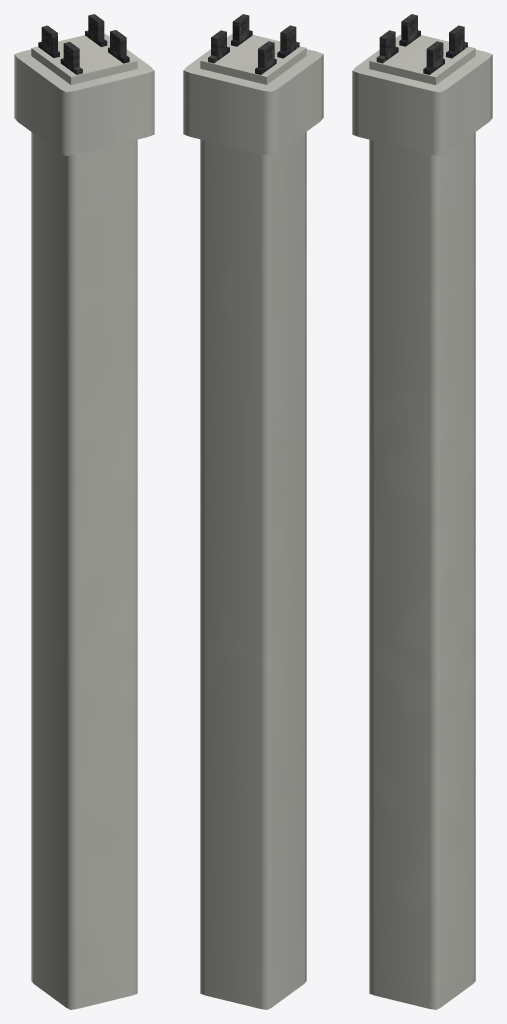
File: danguizhu2.obj
3 renders of one model, left to right at view 1: azimuth 30°, elevation 25°; view 2: azimuth 150°, elevation 25°; view 3: azimuth 330°, elevation 25°, orthographic.
Parts seen in each view (by area): view 1: Mesh6 Group5 Group1 Model, Mesh7 Group1 Model, Mesh5 Group2 Group1 Model, Mesh4 Group4 Group2 Group1 Model, Mesh3 Group4 Group2 Group1 Model, Mesh1 Group3 Group2 Group1 Model, Mesh2 Group3 Group2 Group1 Model; view 2: Mesh6 Group5 Group1 Model, Mesh7 Group1 Model, Mesh5 Group2 Group1 Model, Mesh4 Group4 Group2 Group1 Model, Mesh1 Group3 Group2 Group1 Model, Mesh2 Group3 Group2 Group1 Model, Mesh3 Group4 Group2 Group1 Model; view 3: Mesh6 Group5 Group1 Model, Mesh7 Group1 Model, Mesh5 Group2 Group1 Model, Mesh4 Group4 Group2 Group1 Model, Mesh1 Group3 Group2 Group1 Model, Mesh2 Group3 Group2 Group1 Model, Mesh3 Group4 Group2 Group1 Model.
Part boxes in pixels (x1,y1,x2,y2): Mesh6 Group5 Group1 Model: [31, 132, 137, 1009]; Mesh7 Group1 Model: [14, 33, 154, 155]; Mesh5 Group2 Group1 Model: [31, 35, 137, 84]; Mesh4 Group4 Group2 Group1 Model: [108, 30, 129, 63]; Mesh3 Group4 Group2 Group1 Model: [85, 14, 107, 46]; Mesh1 Group3 Group2 Group1 Model: [60, 42, 82, 74]; Mesh2 Group3 Group2 Group1 Model: [38, 25, 59, 57]; Mesh6 Group5 Group1 Model: [200, 132, 306, 1009]; Mesh7 Group1 Model: [183, 34, 323, 155]; Mesh5 Group2 Group1 Model: [200, 35, 306, 84]; Mesh4 Group4 Group2 Group1 Model: [231, 14, 252, 46]; Mesh1 Group3 Group2 Group1 Model: [277, 25, 299, 58]; Mesh2 Group3 Group2 Group1 Model: [255, 41, 276, 74]; Mesh3 Group4 Group2 Group1 Model: [208, 30, 229, 63]; Mesh6 Group5 Group1 Model: [369, 132, 475, 1009]; Mesh7 Group1 Model: [352, 34, 492, 155]; Mesh5 Group2 Group1 Model: [369, 35, 475, 85]; Mesh4 Group4 Group2 Group1 Model: [423, 41, 444, 74]; Mesh1 Group3 Group2 Group1 Model: [376, 30, 398, 63]; Mesh2 Group3 Group2 Group1 Model: [399, 14, 420, 46]; Mesh3 Group4 Group2 Group1 Model: [446, 25, 467, 58].
Size of the model in its own units: 1.32 by 13.24 by 1.35.
2 materials, 2 textured.
